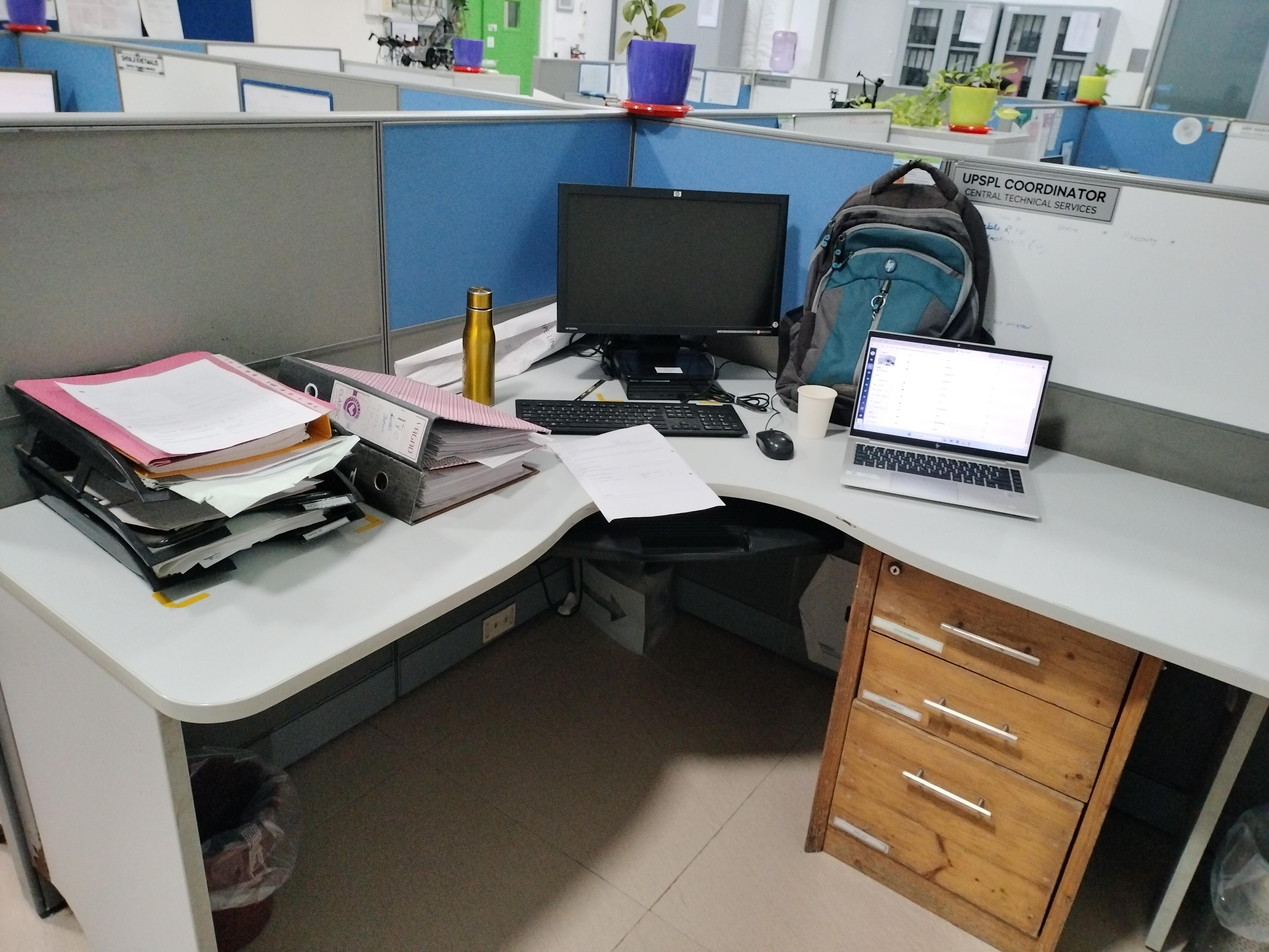bag: (770, 153, 999, 433)
bottle: (456, 279, 505, 410)
desktop: (545, 177, 792, 406)
file: (276, 351, 558, 539)
filetray: (3, 351, 363, 597)
keyboard: (512, 394, 750, 449)
laptop: (836, 324, 1058, 523)
mouse: (752, 425, 798, 467)
mug: (794, 381, 839, 446)
nameplate: (944, 154, 1128, 234)
page: (546, 424, 728, 533)
vase: (617, 39, 699, 126)
